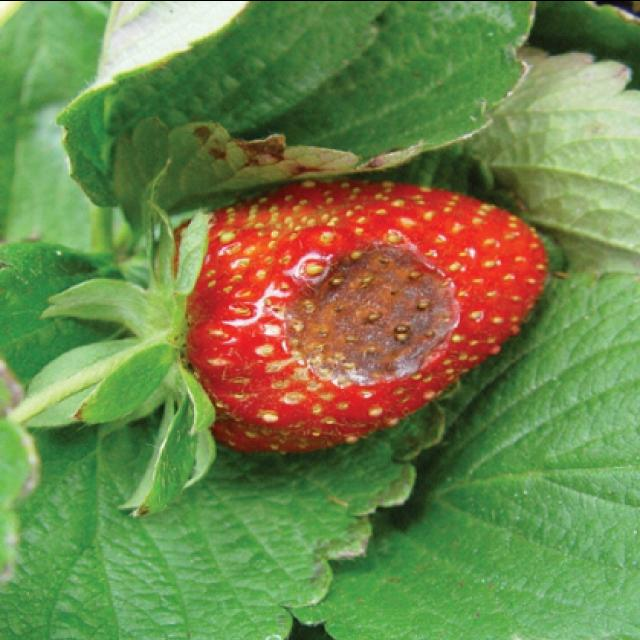Anthracnose Fruit Rot: (275, 230, 462, 394)
